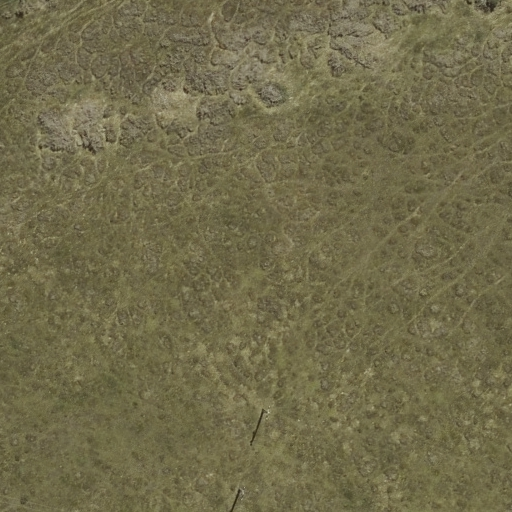DT: (255, 402, 276, 426), (230, 482, 251, 505)
